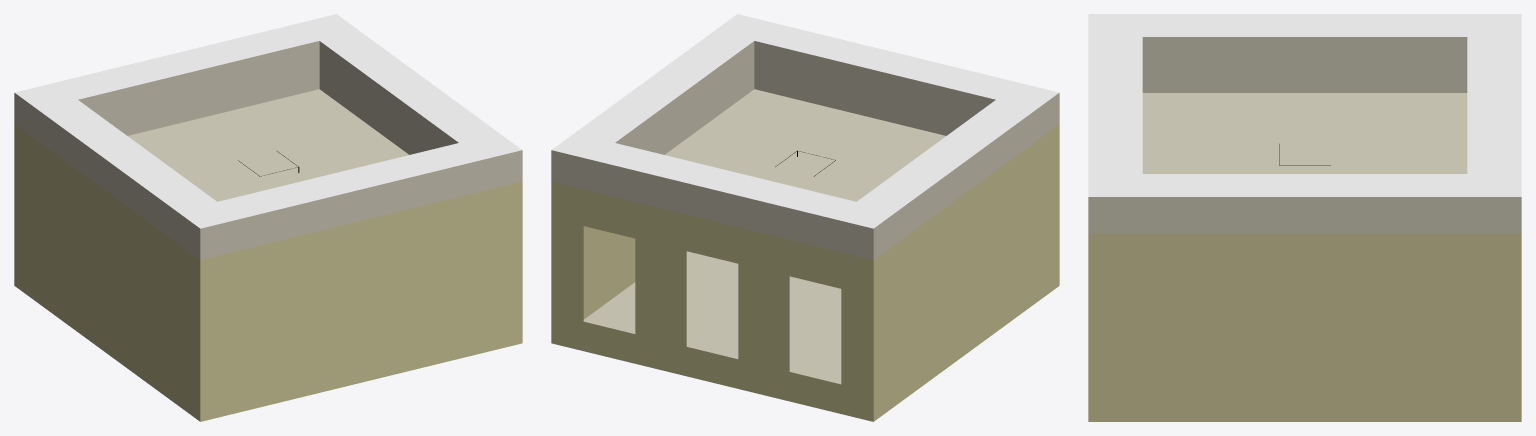
File: Building 51.FBX
3 renders of one model, left to right at view 1: azimuth 30°, elevation 25°; view 2: azimuth 150°, elevation 25°; view 3: azimuth 270°, elevation 25°, orthographic. The views are drawn at different scales.
Parts seen in each view (by area): view 1: Group68; view 2: Group68; view 3: Group68.
Boxes of the visible parts, <box> form: Group68: <box>14,14,522,421</box>; Group68: <box>551,14,1059,421</box>; Group68: <box>1088,14,1521,421</box>.
Bounding box in the file's own units: 29.53 × 16.93 × 29.53.
